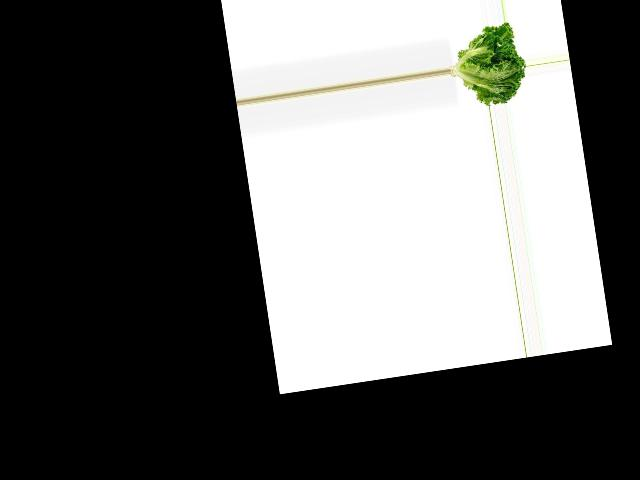lettuce: (444, 21, 530, 111)
